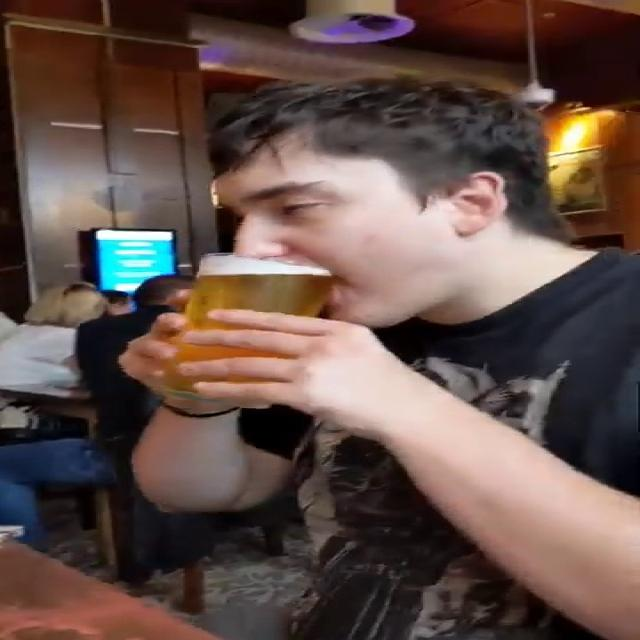Cup: (160, 254, 333, 409)
Hand: (186, 310, 410, 434), (108, 301, 221, 407)
Mouth: (243, 265, 384, 300)
